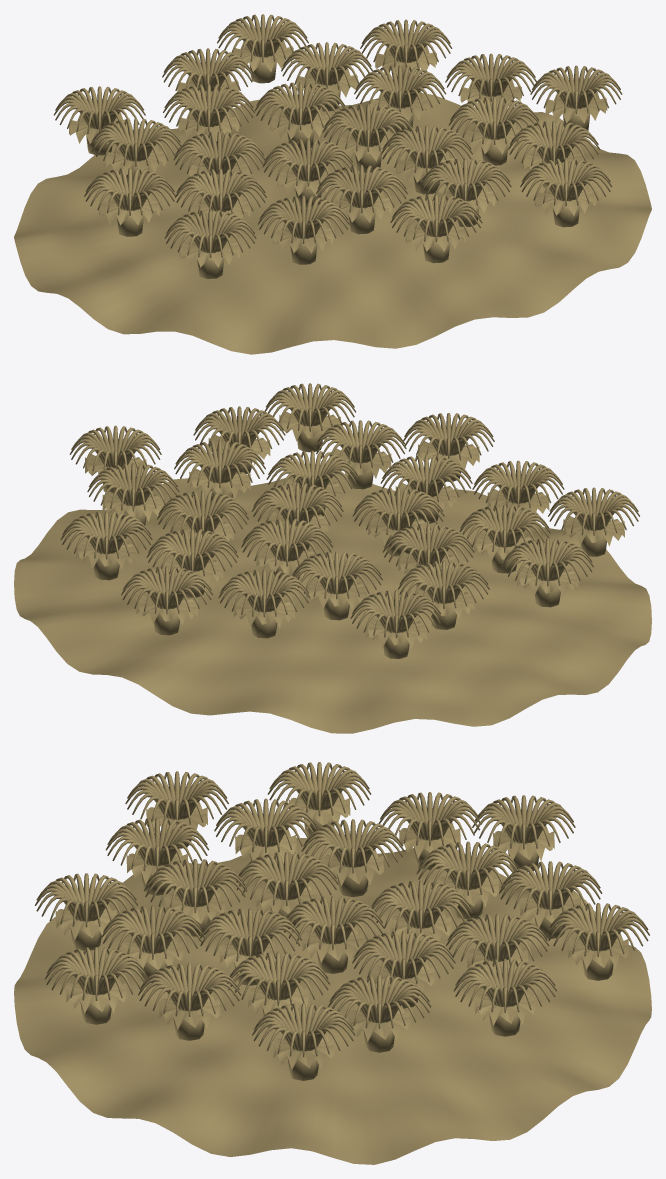
The model's file is zoa-desktop.glb.
3 views of the same model, one above another, from view 1: azimuth 30°, elevation 25°; view 2: azimuth 150°, elevation 25°; view 3: azimuth 270°, elevation 25° (orthographic). The views are drawn at different scales.
Visible parts, largest first — view 1: encrusting-mat, polyp-tentacle, polyp-column; view 2: encrusting-mat, polyp-tentacle, polyp-column; view 3: encrusting-mat, polyp-tentacle, polyp-column.
Boxes of the visible parts, x1,y1,x2,y2 form: encrusting-mat: (14, 40, 651, 354); polyp-tentacle: (53, 14, 622, 257); polyp-column: (86, 61, 590, 278); encrusting-mat: (14, 411, 651, 733); polyp-tentacle: (60, 383, 639, 638); polyp-column: (93, 430, 606, 658); encrusting-mat: (14, 792, 651, 1164); polyp-tentacle: (34, 762, 649, 1057); polyp-column: (70, 816, 613, 1080).
Size of the model in its own units: 0.64 by 0.1122 by 0.5504.
